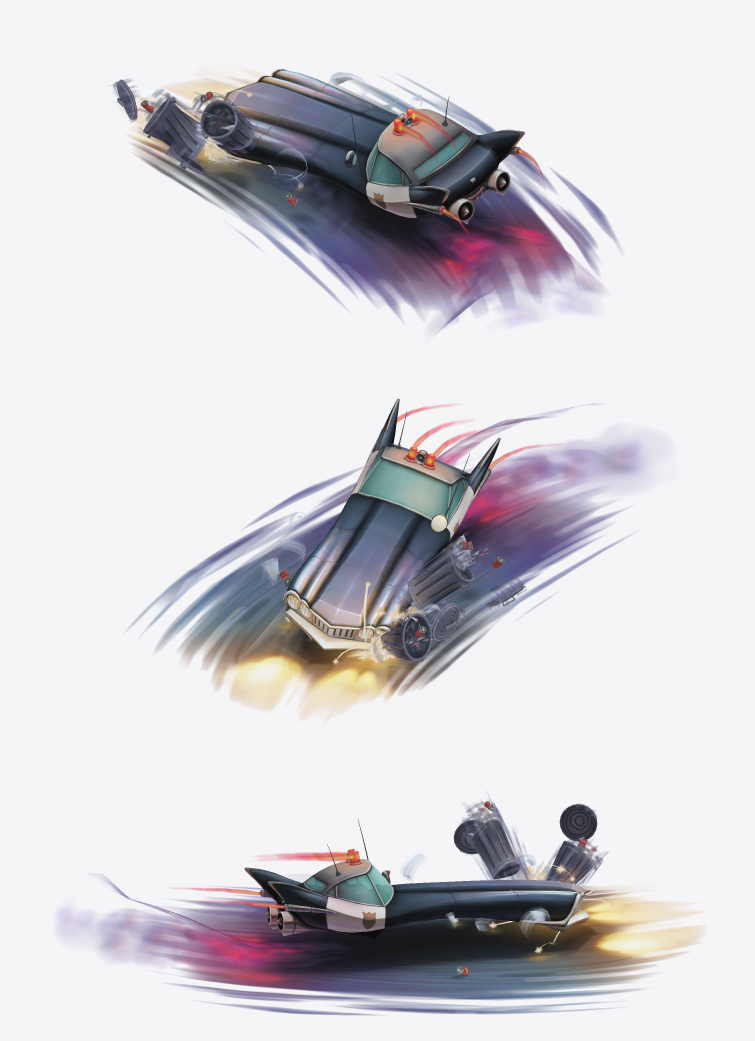
The model's file is universal.glb.
3 renders of one model, top to bottom at view 1: azimuth 30°, elevation 25°; view 2: azimuth 150°, elevation 25°; view 3: azimuth 270°, elevation 25°, orthographic. The views are drawn at different scales.
Parts seen in each view (by area): view 1: Plane, Police Car.007, Cylinder.005; view 2: Plane, Police Car.007, Cylinder.005, Cube.006; view 3: Plane, Police Car.007, Cylinder.005.
Boxes of the visible parts, x1=… form: Plane: x1=112, y1=66, x2=619, y2=332; Police Car.007: x1=216, y1=68, x2=524, y2=224; Cylinder.005: x1=116, y1=79, x2=297, y2=206; Plane: x1=127, y1=403, x2=650, y2=720; Police Car.007: x1=283, y1=398, x2=500, y2=651; Cylinder.005: x1=279, y1=541, x2=523, y2=661; Cube.006: x1=417, y1=480, x2=447, y2=512; Plane: x1=58, y1=797, x2=702, y2=1015; Police Car.007: x1=244, y1=819, x2=593, y2=940; Cylinder.005: x1=384, y1=801, x2=597, y2=975.
Bounding box in the file's own units: 4.33 × 1.65 × 8.27.
3 materials, 3 textured.
